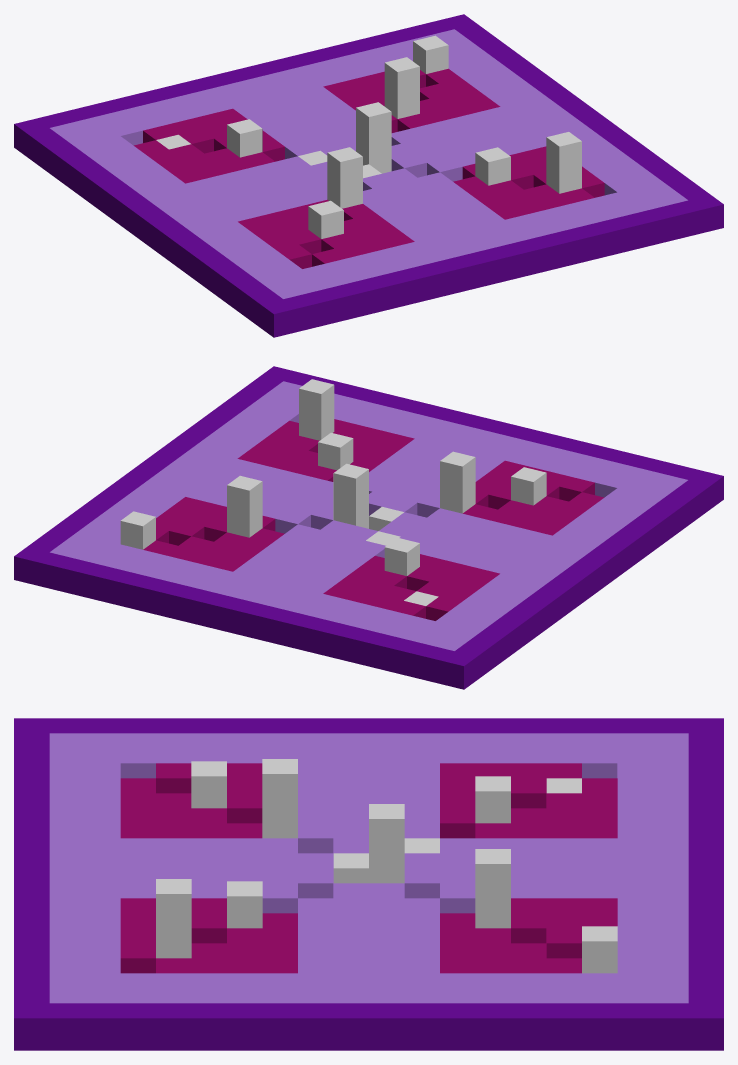
File: spike2.obj
3 views of the same model, one above another, from view 1: azimuth 30°, elevation 25°; view 2: azimuth 150°, elevation 25°; view 3: azimuth 270°, elevation 25° (orthographic). The views are drawn at different scales.
Size of the model in its own units: 2 by 0.3 by 2.
Materials: 1 (1 with a texture image).
